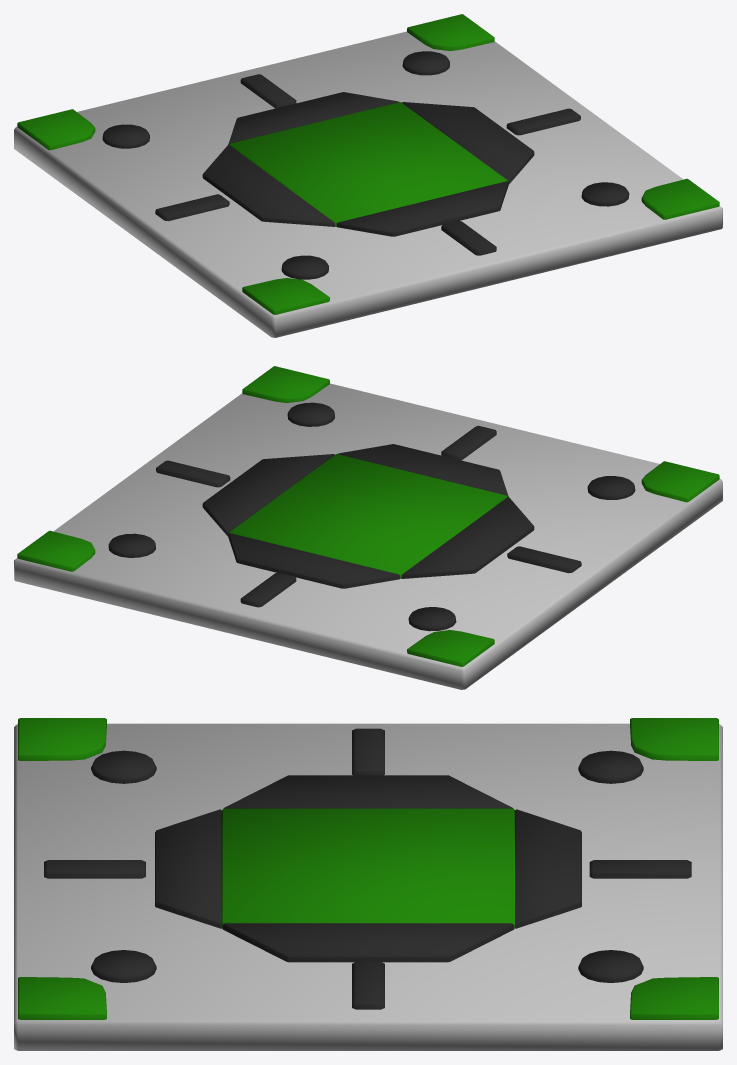
The picture shows the model from 3 angles, top to bottom: view 1: azimuth 30°, elevation 25°; view 2: azimuth 150°, elevation 25°; view 3: azimuth 270°, elevation 25°; orthographic projection. The views are drawn at different scales.
Parts seen in each view (by area): view 1: Tile_track1.002; view 2: Tile_track1.002; view 3: Tile_track1.002.
Part boxes in pixels (left/top/right/bottom): Tile_track1.002: left=14, top=14, right=722, bottom=337; Tile_track1.002: left=14, top=366, right=722, bottom=689; Tile_track1.002: left=14, top=718, right=722, bottom=1050.
Size of the model in its own units: 2.27 by 0.1262 by 2.27.
